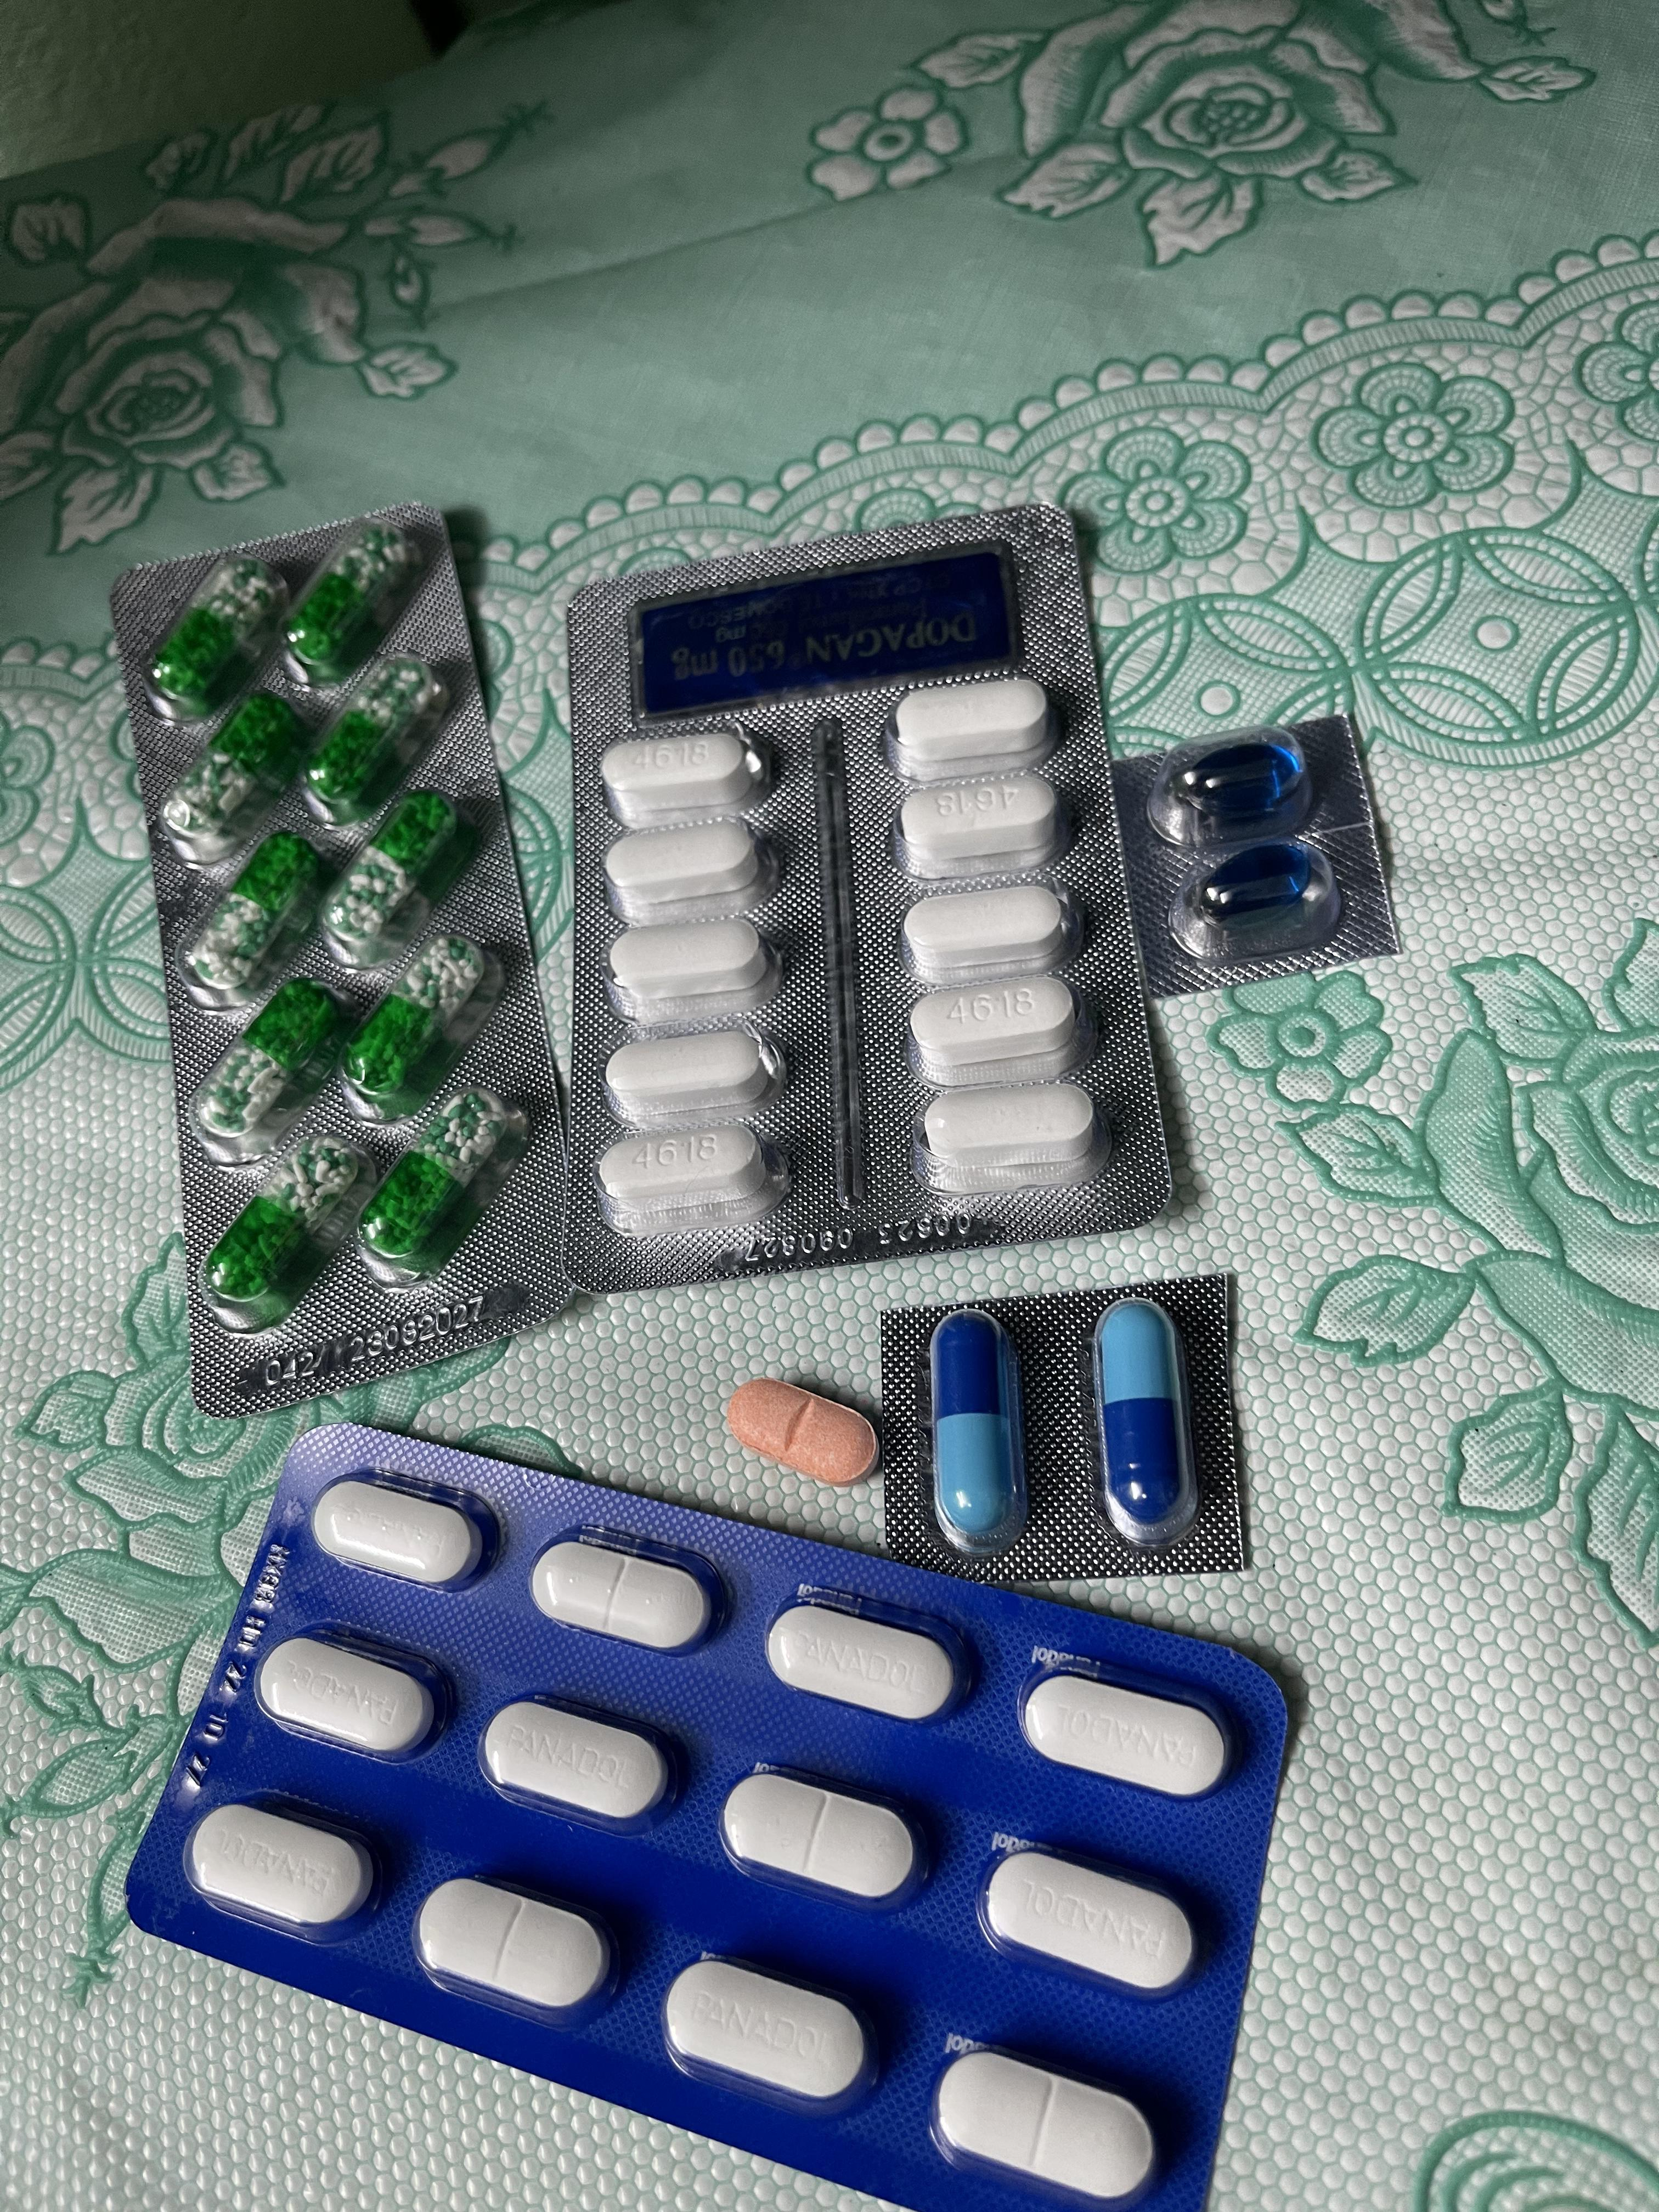Lincomyxin_500mg: (1175, 738, 1302, 817), (1197, 840, 1316, 918)
Loratadine_10mg: (725, 1376, 880, 1484)
Paracetamol_350mg: (931, 2041, 1164, 2205), (664, 1956, 882, 2120), (981, 1844, 1204, 2003), (1018, 1662, 1239, 1808), (413, 1874, 620, 2029), (720, 1768, 934, 1912), (479, 1695, 687, 1836), (185, 1799, 383, 1942), (765, 1588, 971, 1724), (260, 1629, 455, 1763), (530, 1526, 728, 1655), (310, 1472, 495, 1588)
Paracetamol_500mg: (596, 1120, 782, 1238), (918, 1080, 1103, 1195), (908, 974, 1082, 1082), (896, 772, 1063, 876), (603, 1029, 781, 1127), (601, 817, 772, 918), (603, 916, 774, 1017), (903, 887, 1073, 986), (601, 728, 770, 826), (890, 679, 1053, 777)
Paracetamol_650mg: (354, 1089, 533, 1280), (199, 1134, 382, 1317), (192, 974, 359, 1155), (336, 935, 502, 1118), (321, 792, 479, 965), (160, 693, 321, 860), (178, 831, 333, 1000), (303, 658, 453, 822), (148, 559, 293, 718), (282, 523, 425, 681)
pill: (1091, 1299, 1194, 1550), (931, 1312, 1025, 1550)
